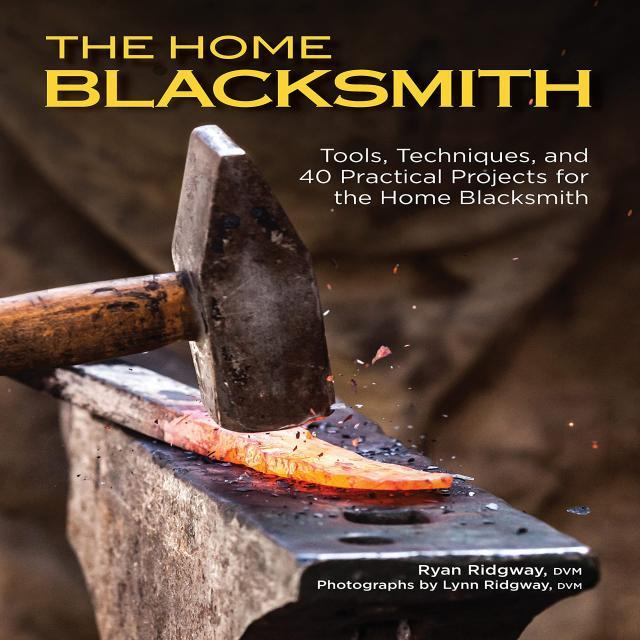hammer: (0, 117, 341, 438)
